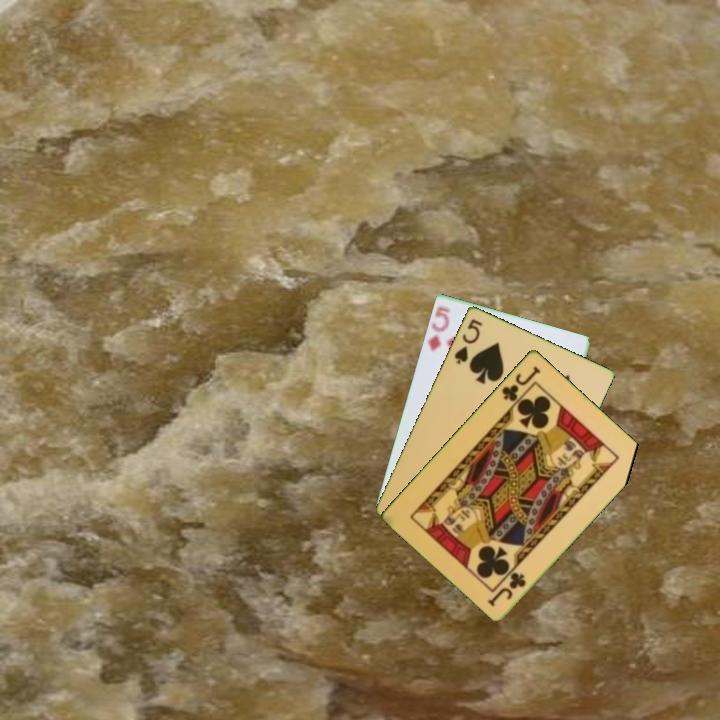5d: (424, 303, 453, 354)
5s: (450, 315, 485, 367)
Jc: (498, 362, 543, 404), (484, 568, 529, 609)
